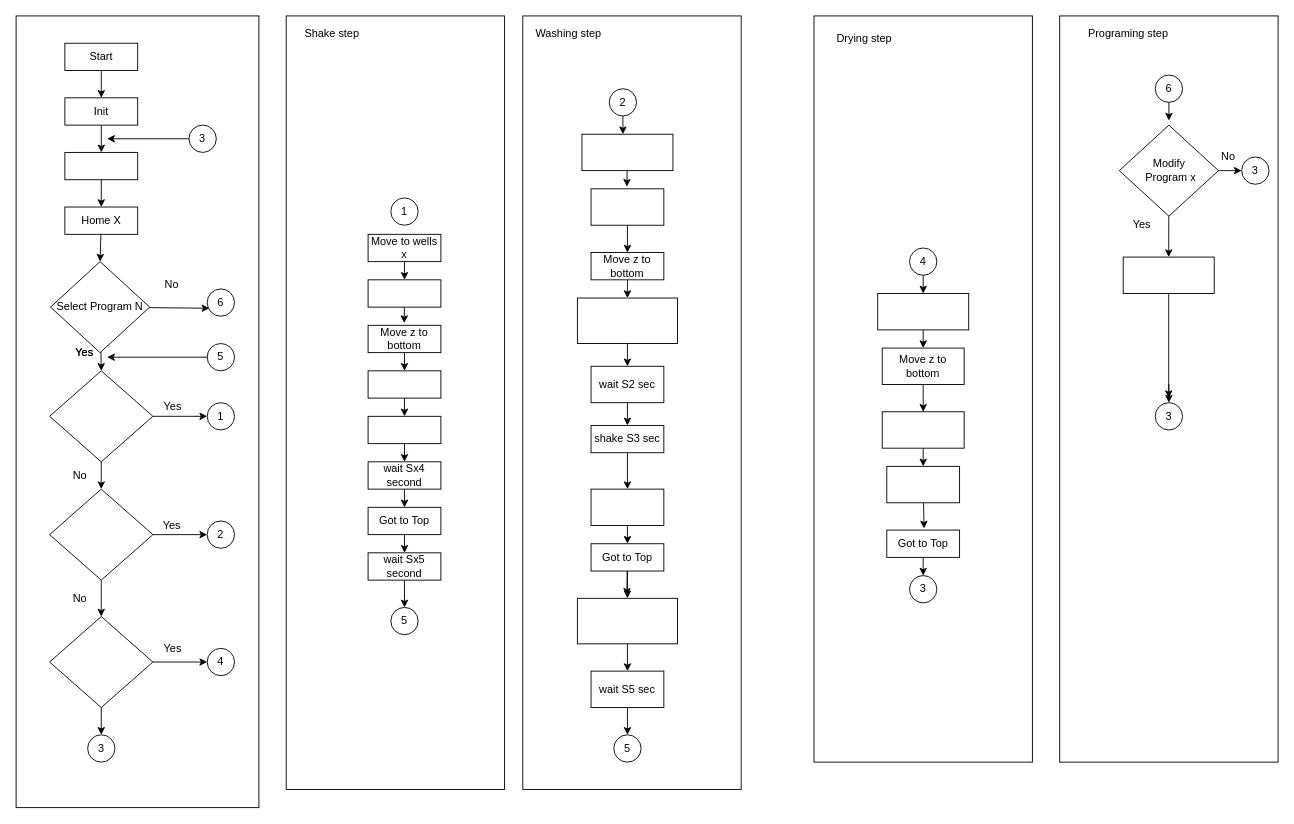
This 1294x824 diagram has some shape labels left out. The shapes that lost their labels are listed below. From the top down, each one's centre as x and y in pixels, then its label:
At pixel 101 166: "Home Z".
At pixel 627 152: "Go to washing wells (wells n-1)".
At pixel 627 206: "wait S1 sec".
At pixel 404 293: "wait Sx1 second".
At pixel 1168 274: "Modify proram N".
At pixel 626 320: "fill washing solution by PUMP1".
At pixel 923 311: "Go to drying wells (wells n)".
At pixel 404 384: "wait Sx2 second".
At pixel 101 416: "is shake wells step".
At pixel 404 429: "shake Sx3 second".
At pixel 922 429: "Heater ON".
At pixel 923 484: "wait S6 sec".
At pixel 627 507: "wait S4 sec".
At pixel 101 534: "is washing wells step".
At pixel 626 620: "Drain washing solution by PUMP2".
At pixel 101 662: "is drying wells step".
